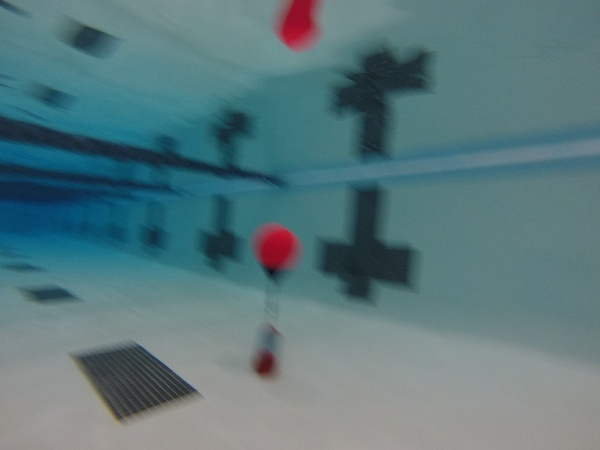buoy_red: (248, 219, 301, 284)
